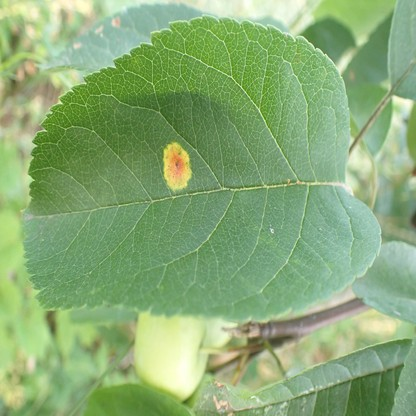rust: (163, 142, 191, 189)
